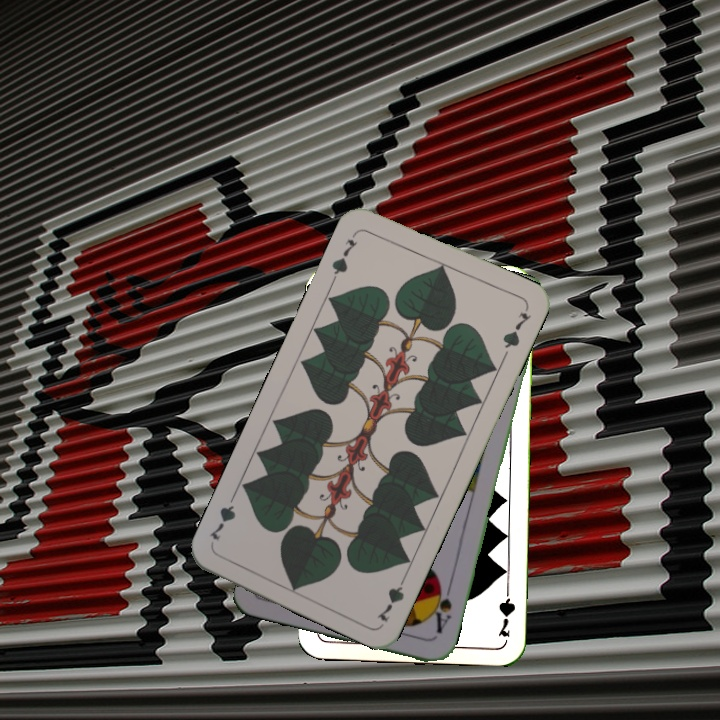G7: (372, 569, 410, 625), (328, 227, 361, 283), (494, 581, 517, 640)
SA: (427, 578, 455, 636)
